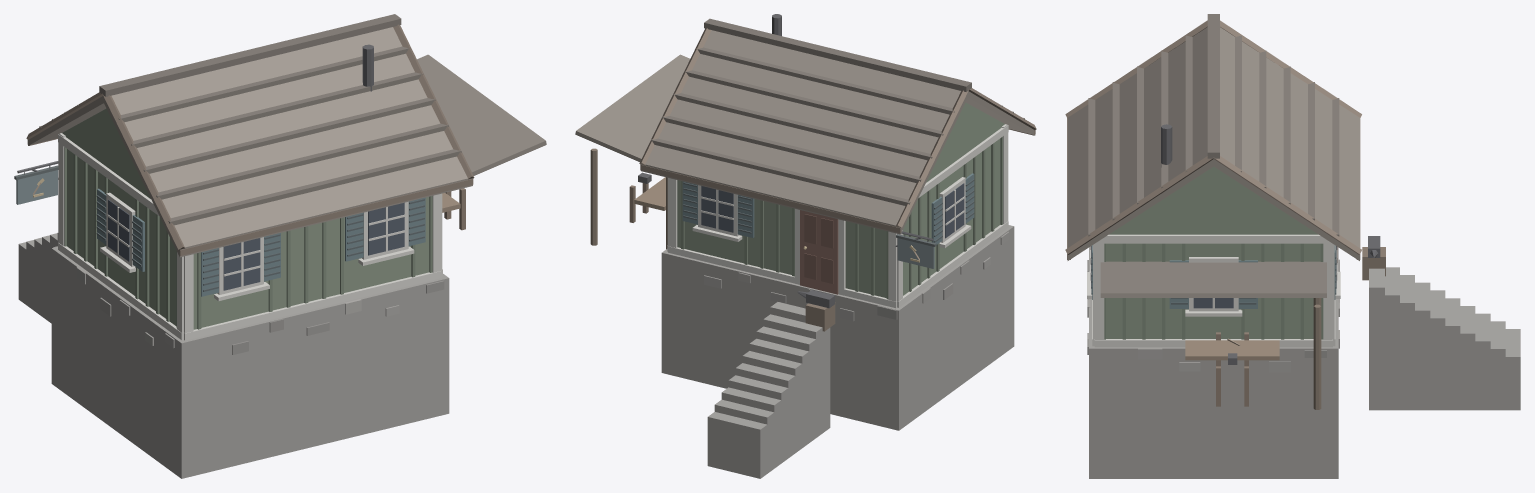
Rendered from workshop_2.gltf.
3 renders of one model, left to right at view 1: azimuth 30°, elevation 25°; view 2: azimuth 150°, elevation 25°; view 3: azimuth 270°, elevation 25°, orthographic. The views are drawn at different scales.
Visible parts, largest first — view 1: Body; view 2: Body; view 3: Body.
Boxes of the visible parts, x1,y1,x2,y2 form: Body: (14,14,546,478); Body: (575,14,1036,478); Body: (1065,14,1520,478).
Bounding box in the file's own units: 9.65 × 7.8 × 9.66.
